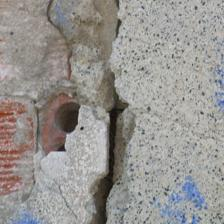Crack: (31, 56, 72, 166), (59, 98, 137, 146), (47, 50, 87, 90), (14, 35, 48, 71)
